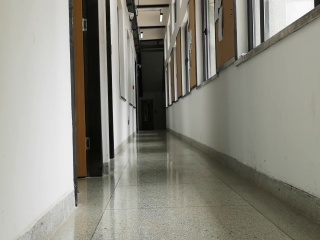room: (67, 1, 106, 190)
